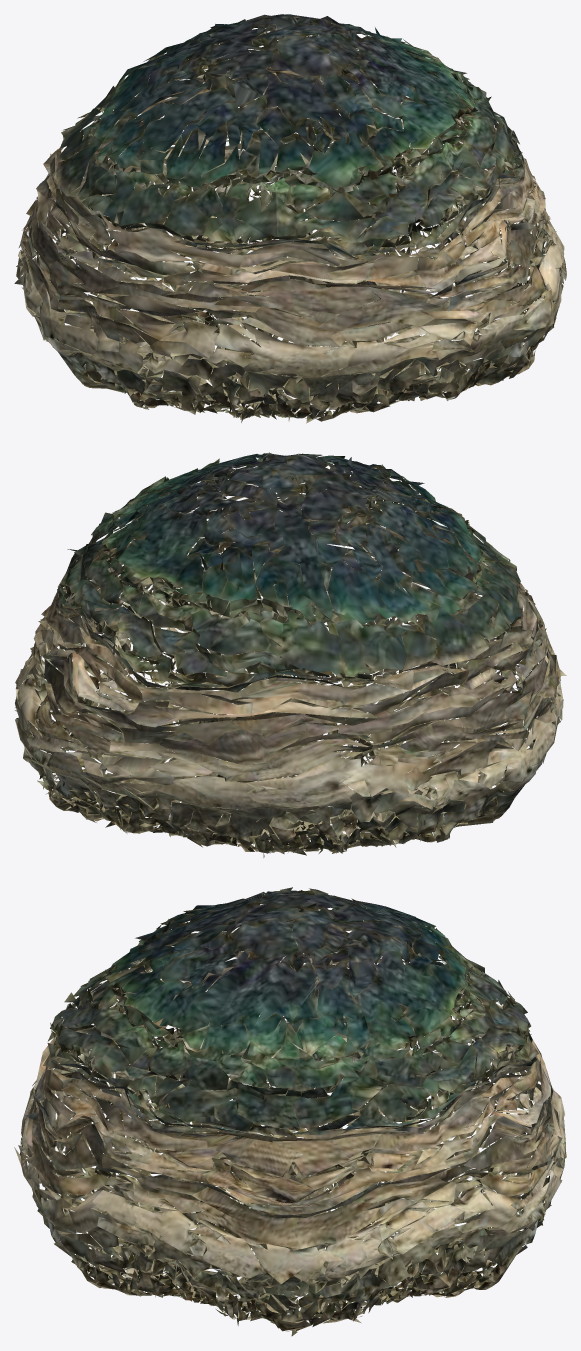
File: stromatolite.glb
The picture shows the model from 3 angles, top to bottom: view 1: azimuth 30°, elevation 25°; view 2: azimuth 150°, elevation 25°; view 3: azimuth 270°, elevation 25°; orthographic projection. The views are drawn at different scales.
Visible parts, largest first — view 1: Mesh_0; view 2: Mesh_0; view 3: Mesh_0.
Boxes of the visible parts, box(x1,y1,x2,y2) form: Mesh_0: box(14, 14, 566, 423); Mesh_0: box(14, 452, 566, 857); Mesh_0: box(14, 887, 566, 1336).
Size of the model in its own units: 1.01 by 0.6266 by 0.9714.
Materials: 1 (1 with a texture image).
